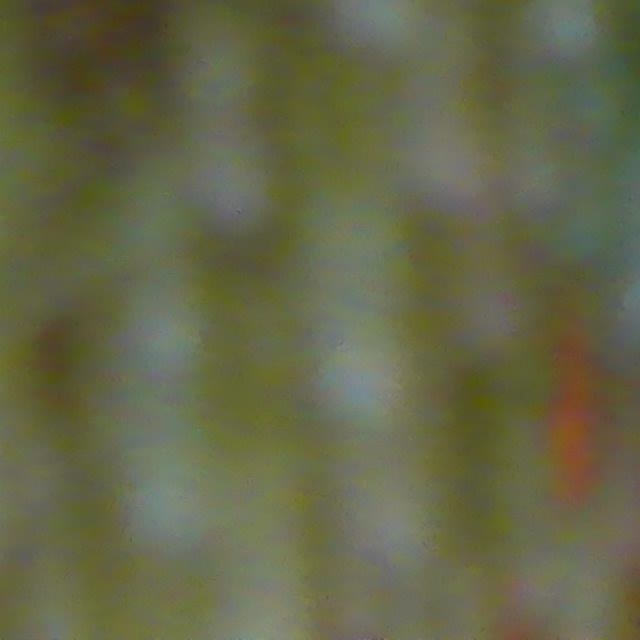SeaGrape: (530, 0, 616, 64)
